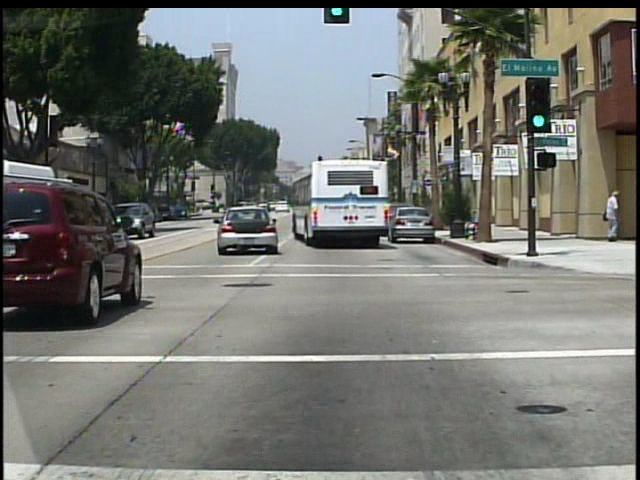person: (602, 190, 625, 244)
